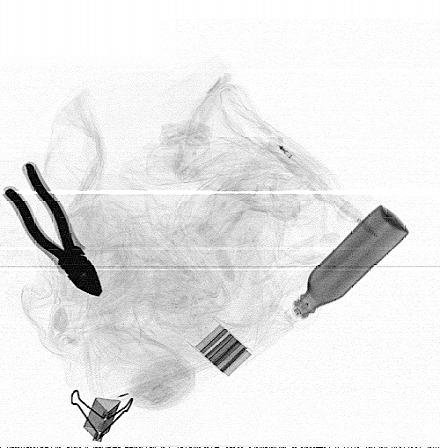Pliers: (2, 162, 105, 299)
